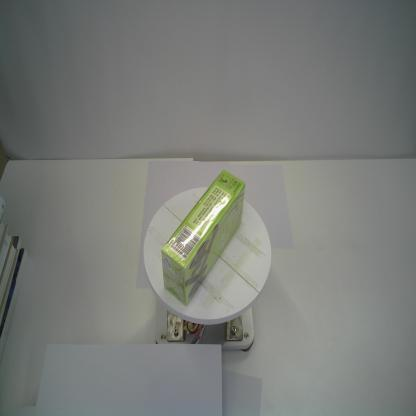Instant Drink: (161, 169, 246, 306)
